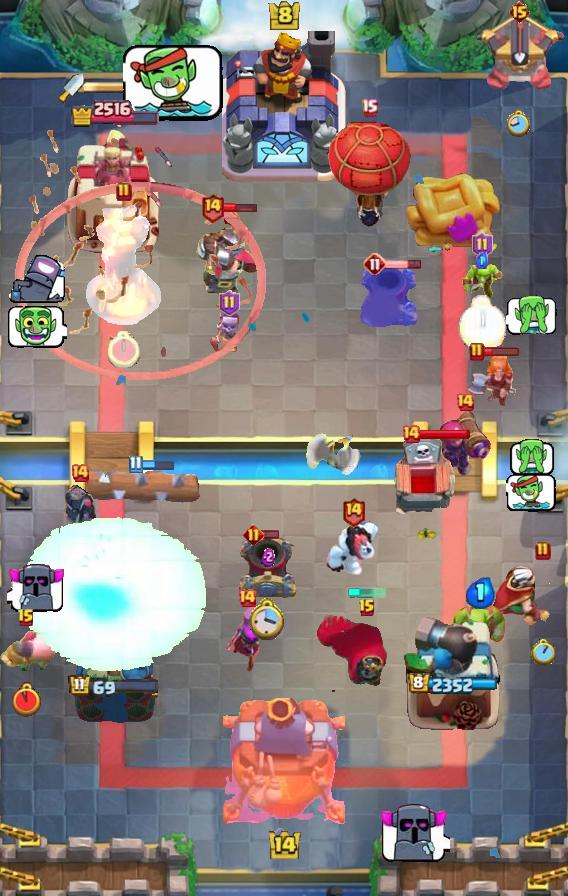bar: (64, 124, 164, 256)
battle-ram: (62, 478, 98, 532)
cannon-cart: (326, 109, 412, 227)
electro-dragon: (85, 201, 163, 329)
electro-spirit: (466, 577, 496, 609), (261, 547, 275, 567), (476, 252, 488, 269)
elixir: (458, 295, 506, 351), (249, 596, 287, 640), (108, 331, 140, 369), (12, 683, 41, 717), (507, 110, 531, 139), (531, 639, 555, 665)
elixir-golem-mid: (388, 437, 458, 523)
emote: (419, 428, 471, 440), (140, 457, 176, 470), (386, 259, 423, 270), (484, 346, 521, 357), (222, 203, 257, 214), (260, 528, 280, 539)
executioner: (0, 629, 60, 675)
flying-machine: (450, 598, 512, 652)
goblin: (213, 312, 245, 352)
hog-rider: (465, 355, 517, 407)
ice-spirit: (347, 588, 387, 598)
inferno-tower: (314, 610, 420, 698)
king-tower: (222, 31, 346, 181), (223, 698, 345, 826)
king-tower-bar: (84, 80, 156, 94)
lava-pup: (473, 10, 565, 92)
mega-knight: (13, 513, 210, 674)
mega-minion: (438, 404, 492, 478)
minion: (79, 464, 209, 506)
musketeer: (358, 262, 420, 330), (237, 534, 299, 602)
queen-tower: (70, 616, 158, 731)
rage: (324, 521, 382, 579)
rascal-girl: (222, 605, 272, 675)
royal-giant: (305, 420, 361, 478)
selected: (68, 98, 159, 128), (68, 673, 160, 699), (408, 672, 498, 696)
skeleton: (122, 42, 225, 126), (378, 800, 450, 864), (6, 561, 65, 613), (7, 255, 65, 305), (5, 304, 66, 350), (507, 293, 558, 334), (506, 472, 556, 512), (509, 440, 556, 477)
skeleton-barrel: (13, 100, 267, 380)
skeleton-king: (490, 564, 568, 626)
text: (199, 193, 224, 224), (341, 497, 366, 528), (363, 252, 387, 276), (509, 0, 532, 24), (472, 232, 493, 258), (220, 290, 241, 316), (243, 523, 264, 545), (455, 392, 475, 412), (401, 424, 421, 444), (70, 463, 90, 483), (237, 588, 257, 608), (358, 598, 376, 618), (17, 608, 35, 628), (361, 99, 378, 118), (116, 182, 132, 202), (469, 342, 485, 362), (535, 541, 551, 561), (129, 455, 144, 473)
tower-bar: (402, 615, 504, 731)
wall-breaker-evolution: (194, 206, 262, 301)
zap: (461, 262, 503, 302)
